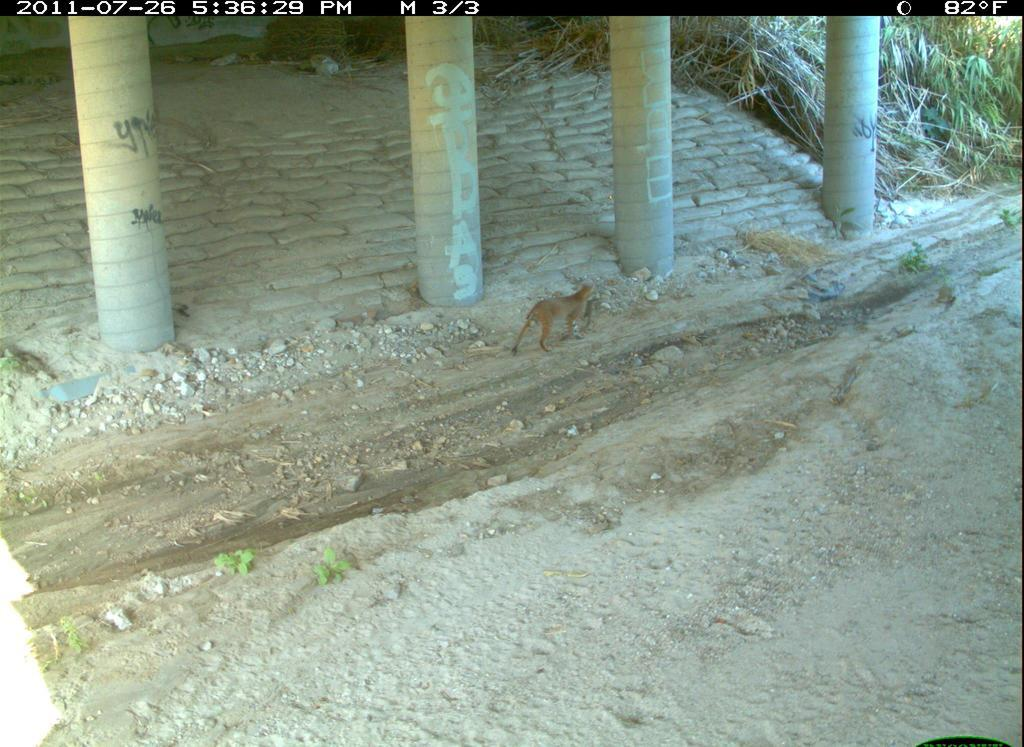bobcat: (1010, 553, 1024, 719)
